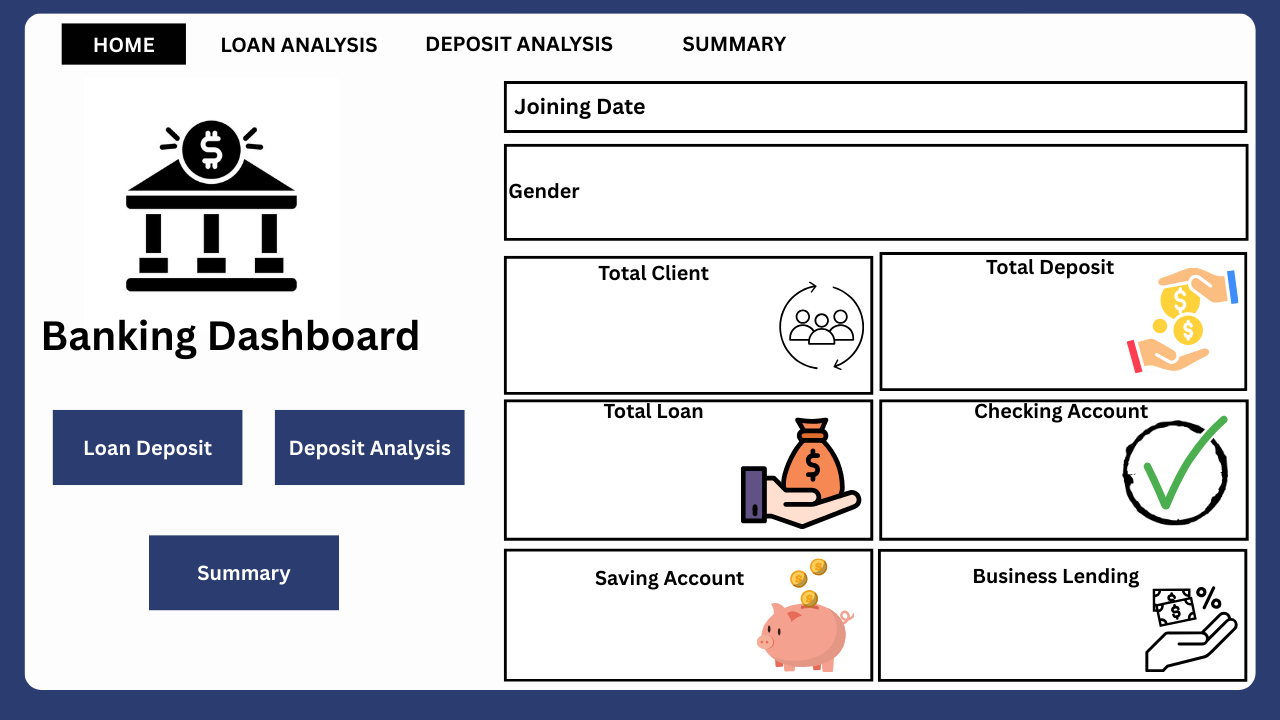

The dashboard page shown, as its layout file describes it:
{"tool":"powerbi","page":{"name":"home","canvas":[1280,720],"ordinal":0},"visuals":[{"type":"slicer","fields":{"Values":["Banking.GenderId"]},"box":[609.3,156.4,627.1,71.4],"z":0},{"type":"card","fields":{"Values":["CountNonNull(Banking.Name)"]},"box":[505,288.2,307.4,71.4],"z":1000},{"type":"card","fields":{"Values":["Banking.Total Loans"]},"box":[537.9,426.8,190.7,85.1],"z":2000},{"type":"card","fields":{"Values":["Banking.Total Deposit"]},"box":[909.8,288.2,204.5,71.4],"z":3000},{"type":"slicer","fields":{"Values":["Banking.Joined Bank.Variation.Date Hierarchy.Year"]},"box":[649.1,87.8,587.3,39.8],"z":4000},{"type":"card","fields":{"Values":["Sum(Banking.Saving Accounts)"]},"box":[517.3,585.9,236,72.7],"z":6000},{"type":"card","fields":{"Values":["Sum(Banking.Business Lending)"]},"box":[923.5,585.9,204.5,75.5],"z":7000},{"type":"actionButton","box":[63.1,413,161.9,67.2],"z":8000},{"type":"actionButton","box":[284,413,172.9,67.2],"z":9000},{"type":"actionButton","box":[159.2,539.3,161.9,67.2],"z":10000},{"type":"actionButton","box":[209.9,19.2,172.9,48],"z":11000},{"type":"actionButton","box":[411.7,19.2,211.3,48],"z":12000},{"type":"actionButton","box":[639.5,19.2,211.3,48],"z":13000},{"type":"card","fields":{"Values":["Sum(Banking.Checking Accounts)"]},"box":[898.8,437.9,190.6,85.7],"z":13001}]}

Visuals, with their boxes in screenshot pixels (x1, y1, x2, y2), scaled from the page's 1280x720 canvas onto the 1280x720 screenshot:
slicer - Banking.GenderId: (609, 156, 1236, 228)
card - CountNonNull(Banking.Name): (505, 288, 812, 360)
card - Banking.Total Loans: (538, 427, 729, 512)
card - Banking.Total Deposit: (910, 288, 1114, 360)
slicer - Banking.Joined Bank.Variation.Date Hierarchy.Year: (649, 88, 1236, 128)
card - Sum(Banking.Saving Accounts): (517, 586, 753, 659)
card - Sum(Banking.Business Lending): (924, 586, 1128, 661)
actionButton: (63, 413, 225, 480)
actionButton: (284, 413, 457, 480)
actionButton: (159, 539, 321, 606)
actionButton: (210, 19, 383, 67)
actionButton: (412, 19, 623, 67)
actionButton: (640, 19, 851, 67)
card - Sum(Banking.Checking Accounts): (899, 438, 1089, 524)
